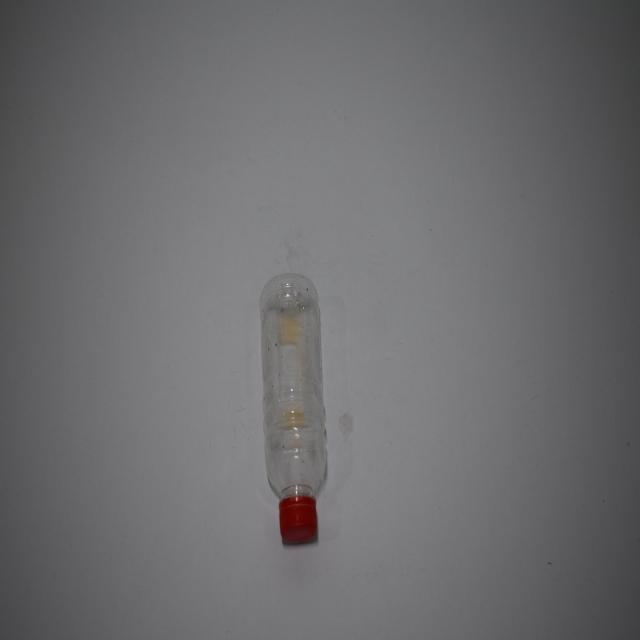bottle: (255, 260, 346, 561)
